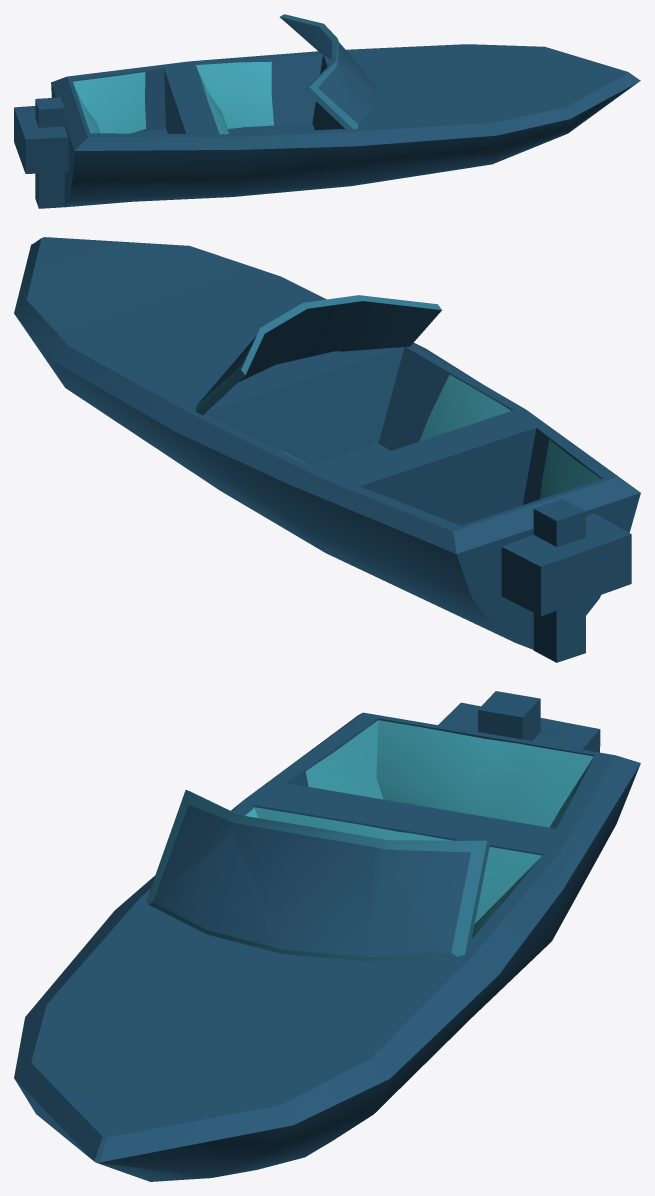
Rendered from Super_Ship_LV2.FBX.
3 renders of one model, top to bottom at view 1: azimuth 30°, elevation 25°; view 2: azimuth 150°, elevation 25°; view 3: azimuth 270°, elevation 25°, orthographic. The views are drawn at different scales.
Parts seen in each view (by area): view 1: Super_Ship; view 2: Super_Ship; view 3: Super_Ship.
Part boxes in pixels (x1,y1,x2,y2): Super_Ship: (14,14,640,208); Super_Ship: (14,237,640,662); Super_Ship: (14,691,640,1181).
Size of the model in its own units: 11.55 by 3.25 by 6.53.
